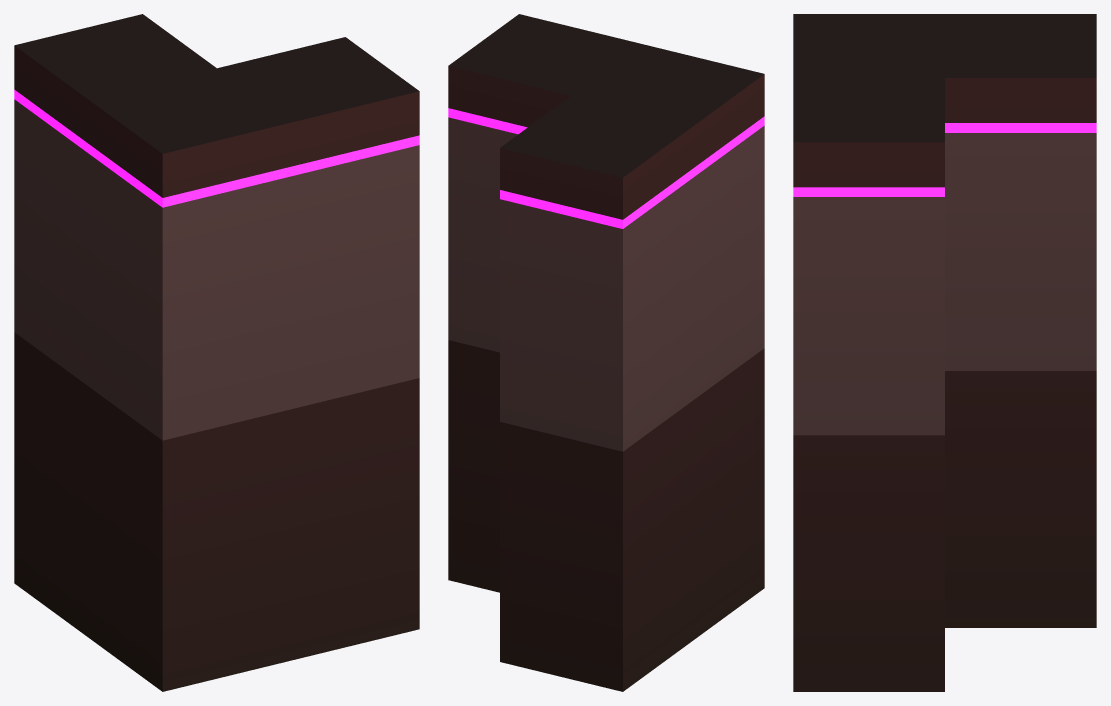
The model's file is WallCorner24.fbx.
3 views of the same model, side by side, from view 1: azimuth 30°, elevation 25°; view 2: azimuth 150°, elevation 25°; view 3: azimuth 270°, elevation 25° (orthographic). The views are drawn at different scales.
Visible parts, largest first — view 1: WallCorner24; view 2: WallCorner24; view 3: WallCorner24.
Part boxes in pixels (bbox=[...]): WallCorner24: bbox=[14, 14, 419, 691]; WallCorner24: bbox=[448, 14, 764, 691]; WallCorner24: bbox=[793, 14, 1096, 691].
Size of the model in its own units: 200 by 400 by 200.
